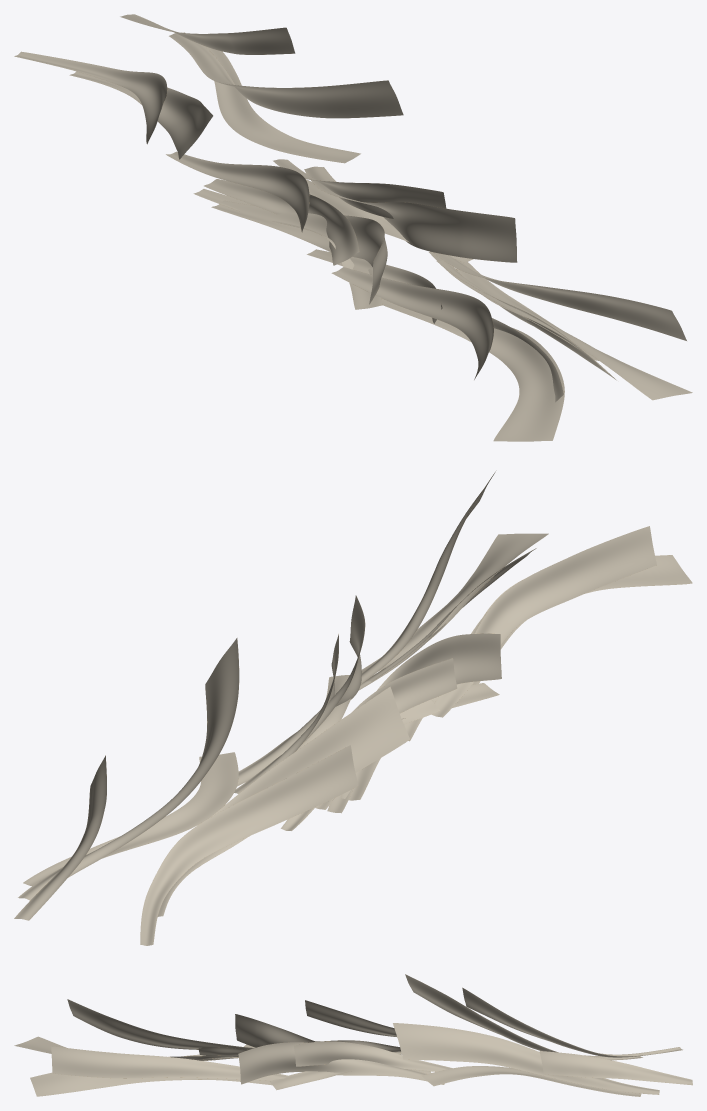
The model's file is dream-ribbons.glb.
3 renders of one model, top to bottom at view 1: azimuth 30°, elevation 25°; view 2: azimuth 150°, elevation 25°; view 3: azimuth 270°, elevation 25°, orthographic. The views are drawn at different scales.
Visible parts, largest first — view 1: Possibility_Right_Atlas, Feeling_Left_Low_Organza, Clarity_Right_Anchored_Mineral, Feeling_Left_Aerial_Fold, Feeling_Right_Aerial_Fold, Possibility_Left_Atlas, Clarity_Right_Low_Architectural_Fold, Possibility_High_Memory, Feeling_Right_Low_Organza, Possibility_Left_Inner_Curl, Clarity_Left_Anchored_Backfold, Possibility_Right_Memory_Scroll (+7 smaller); view 2: Clarity_Left_Anchored_Backfold, Feeling_Left_Aerial_Fold, Clarity_Left_Draped_Mineral, Clarity_Right_Anchored_Mineral, Possibility_Left_Atlas, Clarity_Right_Low_Architectural_Fold, Feeling_Right_Low_Organza, Possibility_High_Memory, Possibility_Right_Atlas, Clarity_Right_Quiet_Distant_Drape, Feeling_Right_Aerial_Fold, Feeling_Left_Low_Organza (+4 smaller); view 3: Clarity_Right_Anchored_Mineral, Feeling_Right_Aerial_Fold, Possibility_Right_Atlas, Clarity_Right_Quiet_Distant_Drape, Possibility_Right_Memory_Scroll, Feeling_Left_Aerial_Fold, Feeling_Right_Low_Organza, Clarity_Left_Draped_Mineral, Clarity_Left_Anchored_Backfold, Clarity_Right_Low_Architectural_Fold, Possibility_Left_Atlas, Possibility_High_Memory (+4 smaller).
Boxes of the visible parts, <box> form: Possibility_Right_Atlas: <box>304,166,517,262</box>; Feeling_Left_Low_Organza: <box>382,298,564,441</box>; Clarity_Right_Anchored_Mineral: <box>169,32,403,118</box>; Feeling_Left_Aerial_Fold: <box>332,267,493,379</box>; Feeling_Right_Aerial_Fold: <box>433,252,686,340</box>; Possibility_Left_Atlas: <box>211,200,387,304</box>; Clarity_Right_Low_Architectural_Fold: <box>204,46,360,163</box>; Possibility_High_Memory: <box>166,151,309,232</box>; Feeling_Right_Low_Organza: <box>456,261,692,400</box>; Possibility_Left_Inner_Curl: <box>204,179,359,265</box>; Clarity_Left_Anchored_Backfold: <box>14,51,167,144</box>; Possibility_Right_Memory_Scroll: <box>273,159,446,218</box>; Clarity_Left_Anchored_Backfold: <box>140,745,358,945</box>; Feeling_Left_Aerial_Fold: <box>431,526,656,717</box>; Clarity_Left_Draped_Mineral: <box>157,686,409,916</box>; Clarity_Right_Anchored_Mineral: <box>18,638,239,900</box>; Possibility_Left_Atlas: <box>341,633,501,800</box>; Clarity_Right_Low_Architectural_Fold: <box>23,752,238,885</box>; Feeling_Right_Low_Organza: <box>361,533,548,672</box>; Possibility_High_Memory: <box>281,658,457,830</box>; Possibility_Right_Atlas: <box>237,595,365,786</box>; Clarity_Right_Quiet_Distant_Drape: <box>14,755,106,920</box>; Feeling_Right_Aerial_Fold: <box>361,471,495,683</box>; Feeling_Left_Low_Organza: <box>472,555,692,684</box>; Clarity_Right_Anchored_Mineral: <box>393,1023,659,1094</box>; Feeling_Right_Aerial_Fold: <box>51,1046,287,1080</box>; Possibility_Right_Atlas: <box>238,1042,444,1084</box>; Clarity_Right_Quiet_Distant_Drape: <box>539,1051,692,1085</box>; Possibility_Right_Memory_Scroll: <box>294,1041,452,1071</box>; Feeling_Left_Aerial_Fold: <box>67,999,254,1049</box>; Feeling_Right_Low_Organza: <box>30,1072,271,1096</box>; Clarity_Left_Draped_Mineral: <box>405,974,642,1060</box>; Clarity_Left_Anchored_Backfold: <box>462,987,682,1057</box>; Clarity_Right_Low_Architectural_Fold: <box>422,1066,641,1096</box>; Possibility_Left_Atlas: <box>235,1014,400,1052</box>; Possibility_High_Memory: <box>305,1000,396,1036</box>.
Bounding box in the file's own units: 43.1 × 20.83 × 184.
